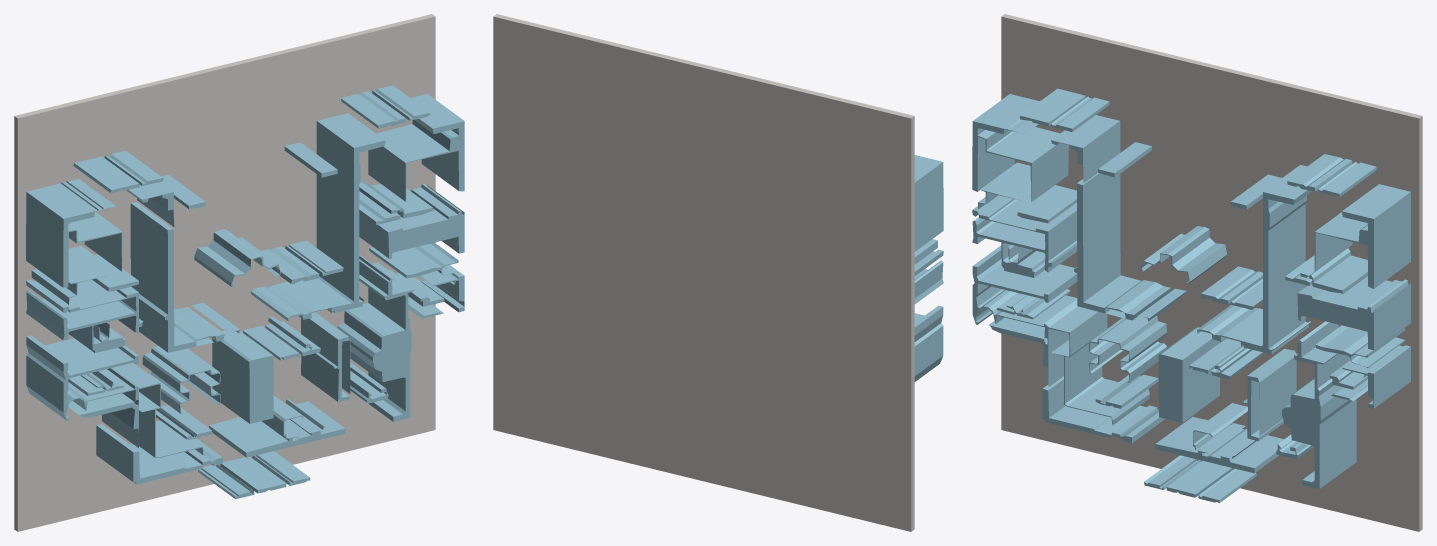
3 renders of one model, left to right at view 1: azimuth 30°, elevation 25°; view 2: azimuth 150°, elevation 25°; view 3: azimuth 330°, elevation 25°, orthographic.
Visible parts, largest first — view 1: world; view 2: world; view 3: world.
Boxes of the visible parts, x1,y1,x2,y2 form: world: (14,14,464,531); world: (493,14,943,531); world: (972,14,1422,531).
Bounding box in the file's own units: 10.23 × 9.67 × 1.73.
